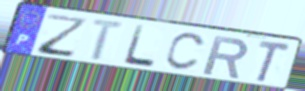C: (163, 32, 209, 72)
L: (121, 24, 157, 69)
R: (201, 34, 250, 80)
T: (254, 38, 294, 84), (89, 17, 128, 63)
Z: (36, 13, 90, 60)
